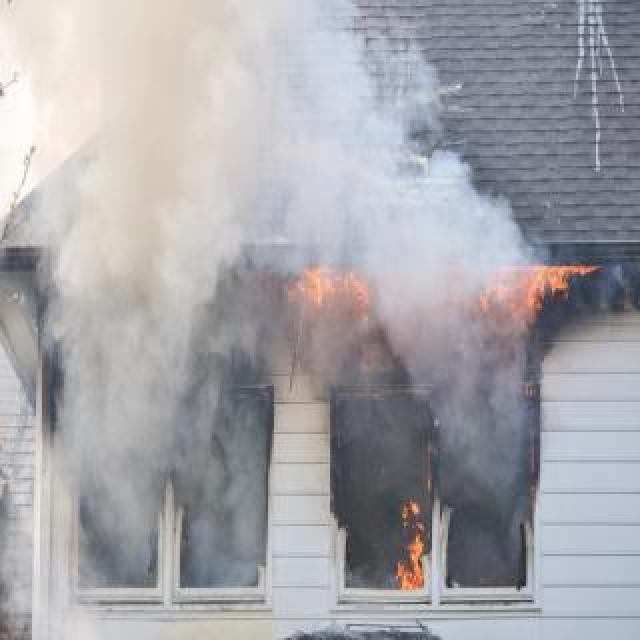Fire: (472, 244, 588, 324), (296, 256, 388, 322), (396, 490, 434, 598)
Smoke: (2, 8, 546, 628)
